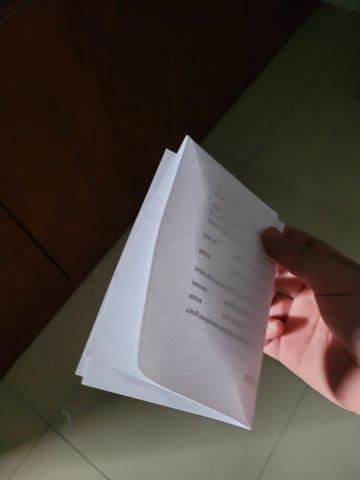kertas: (77, 137, 280, 430)
